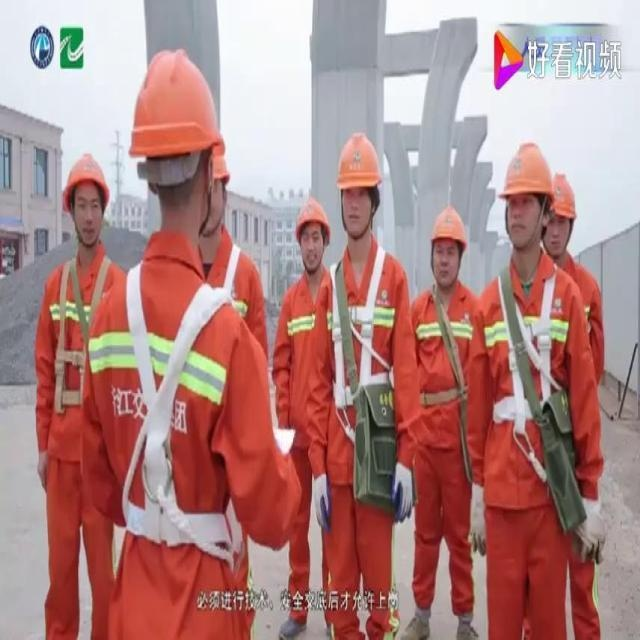Arnes_seguridad: (116, 252, 243, 562), (490, 255, 565, 433), (322, 238, 396, 418), (44, 247, 112, 425)
